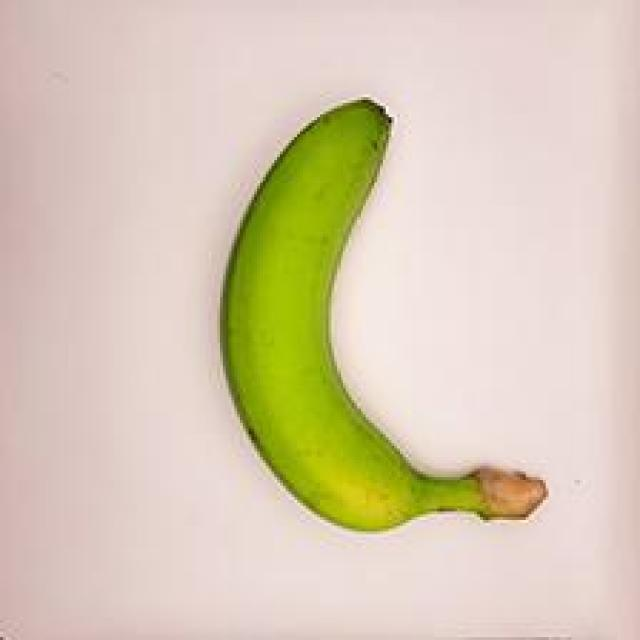Unripe: (174, 60, 592, 554)
